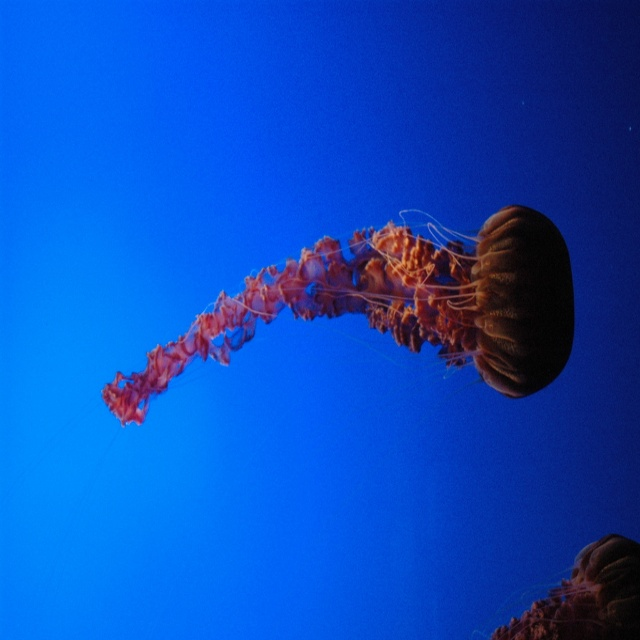Jellyfish: (0, 197, 577, 639), (491, 530, 640, 639)
